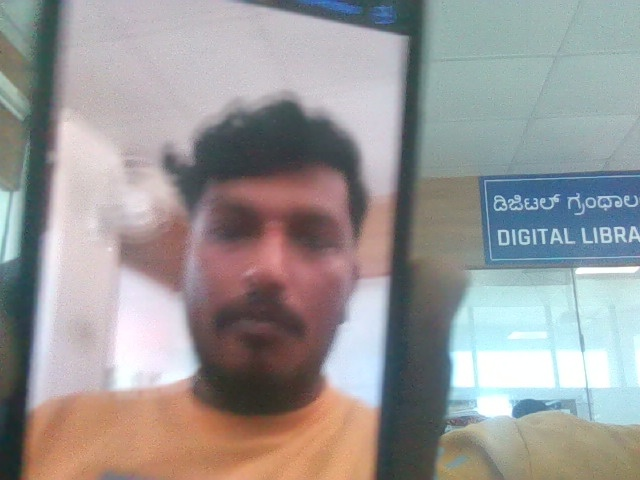fake: (154, 74, 390, 408)
